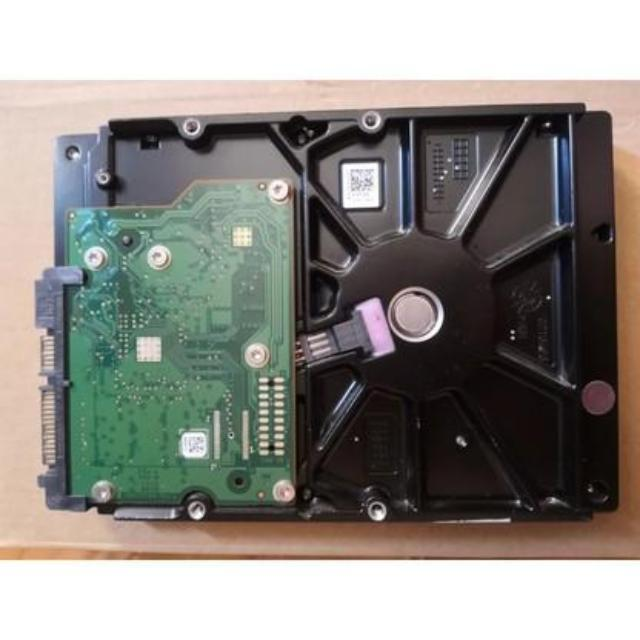DISK: (32, 115, 623, 530)
